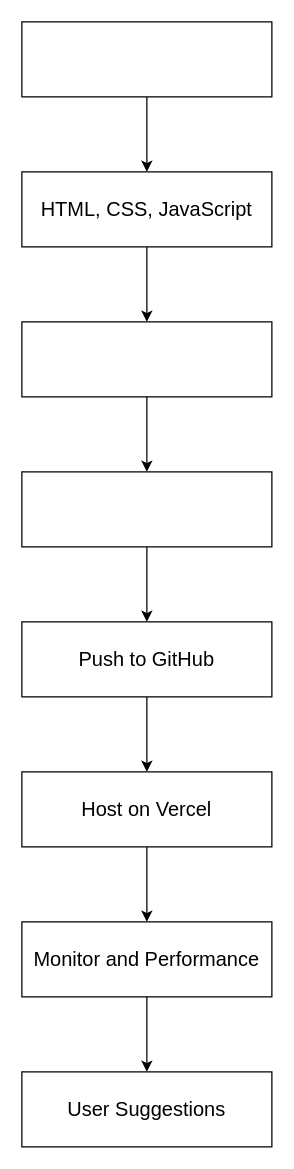
Some shapes in this 294 by 1169 pixel diagram are drawn without their labels. Here are the shapes that lost their labels. From the top down, the box of each, then its label:
(21, 21, 272, 97): Game rules, Tech Stack
(21, 321, 272, 397): Organize Files
(21, 471, 272, 547): Browse and Input Checks
